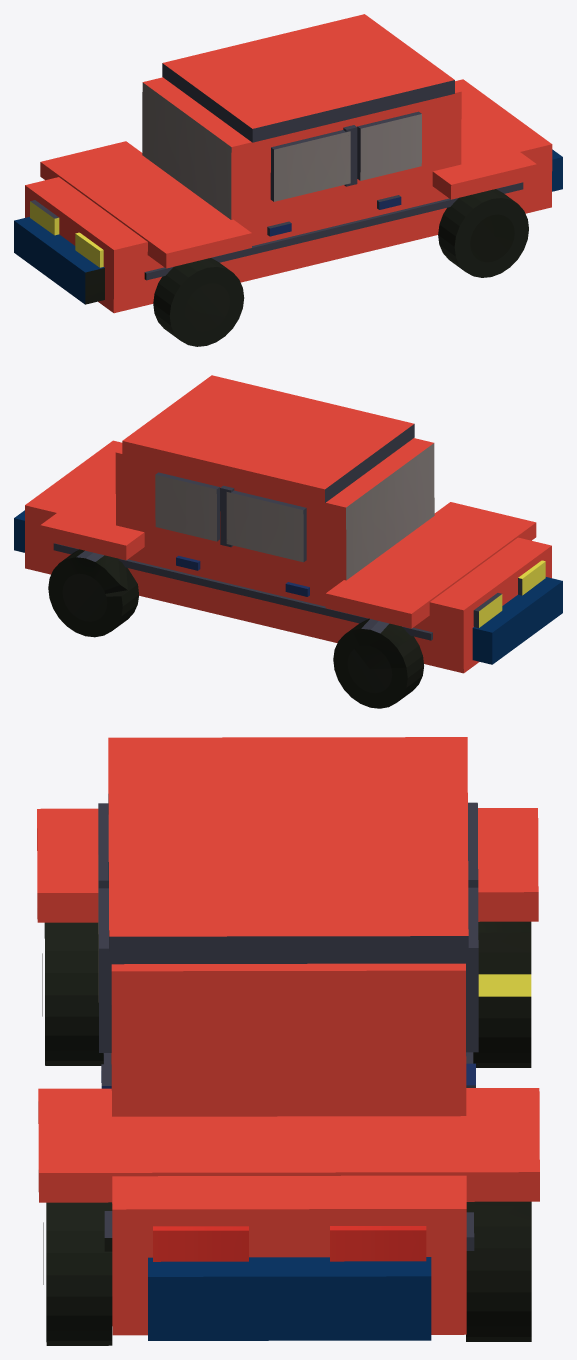
File: auto2.fbx
3 views of the same model, one above another, from view 1: azimuth 30°, elevation 25°; view 2: azimuth 150°, elevation 25°; view 3: azimuth 270°, elevation 25° (orthographic). The views are drawn at different scales.
Visible parts, largest first — view 1: auto2; view 2: auto2; view 3: auto2.
Boxes of the visible parts, x1,y1,x2,y2 form: auto2: (14, 14, 562, 346); auto2: (14, 375, 562, 708); auto2: (37, 737, 539, 1345).
Size of the model in its own units: 436 by 167 by 199.
Materials: 1 (1 with a texture image).
